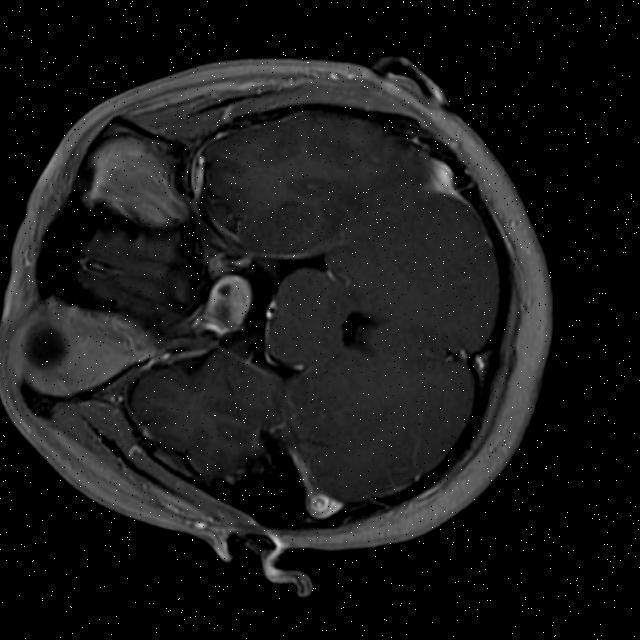Pituitary: (201, 273, 253, 333)
